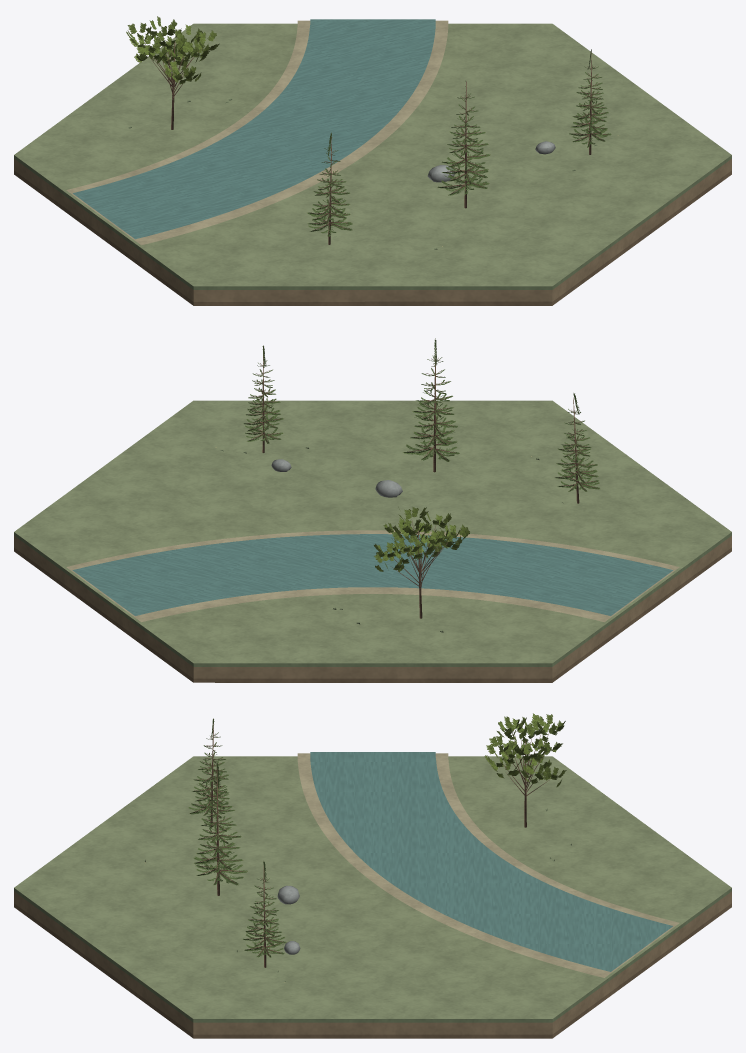
The model's file is rio_curvo.glb.
The picture shows the model from 3 angles, top to bottom: view 1: azimuth 30°, elevation 25°; view 2: azimuth 150°, elevation 25°; view 3: azimuth 270°, elevation 25°; orthographic projection.
Visible parts, largest first — view 1: rio_curvo.010 / 0, rio_curvo.010 / 4, rio_curvo.010 / 5, rio_curvo.010 / 6, rio_curvo.010 / 1, rio_curvo.010 / 2; view 2: rio_curvo.010 / 0, rio_curvo.010 / 4, rio_curvo.010 / 5, rio_curvo.010 / 6, rio_curvo.010 / 1, rio_curvo.010 / 2; view 3: rio_curvo.010 / 0, rio_curvo.010 / 4, rio_curvo.010 / 5, rio_curvo.010 / 6, rio_curvo.010 / 1.
Part boxes in pixels (x1=…): rio_curvo.010 / 0: x1=14, y1=20, x2=731, y2=305; rio_curvo.010 / 4: x1=73, y1=19, x2=435, y2=239; rio_curvo.010 / 5: x1=307, y1=49, x2=611, y2=236; rio_curvo.010 / 6: x1=126, y1=16, x2=219, y2=84; rio_curvo.010 / 1: x1=145, y1=42, x2=608, y2=244; rio_curvo.010 / 2: x1=427, y1=141, x2=555, y2=182; rio_curvo.010 / 0: x1=14, y1=400, x2=731, y2=682; rio_curvo.010 / 4: x1=72, y1=534, x2=673, y2=615; rio_curvo.010 / 5: x1=243, y1=338, x2=599, y2=491; rio_curvo.010 / 6: x1=374, y1=507, x2=469, y2=572; rio_curvo.010 / 1: x1=246, y1=352, x2=597, y2=618; rio_curvo.010 / 2: x1=271, y1=459, x2=402, y2=497; rio_curvo.010 / 0: x1=14, y1=753, x2=731, y2=1038; rio_curvo.010 / 4: x1=310, y1=752, x2=672, y2=971; rio_curvo.010 / 5: x1=188, y1=718, x2=286, y2=957; rio_curvo.010 / 6: x1=484, y1=713, x2=566, y2=787; rio_curvo.010 / 1: x1=193, y1=723, x2=549, y2=967.
Bounding box in the file's own units: 3.46 × 0.9495 × 4.
6 materials, 6 textured.
